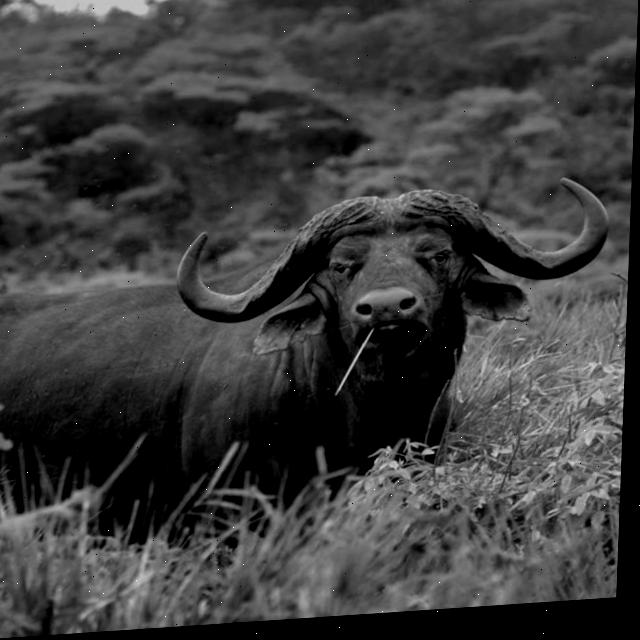Buffalo: (0, 174, 611, 562)
